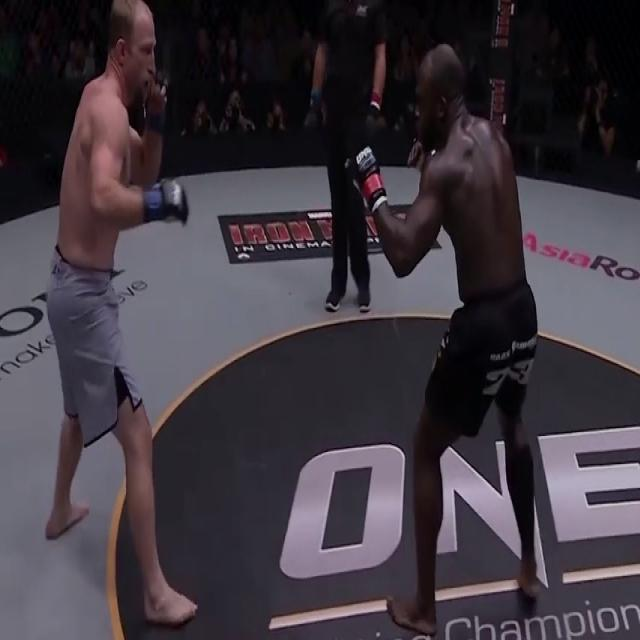fight: (44, 0, 543, 623)
non-fight: (312, 1, 388, 317)
